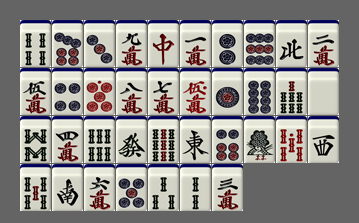0m: (180, 68, 211, 115)
0p: (84, 68, 115, 115)
0s: (276, 116, 307, 163)
1m: (180, 20, 211, 67)
1p: (212, 68, 243, 115)
1s: (244, 116, 275, 163)
1z: (180, 116, 211, 163)
2m: (308, 20, 339, 67)
2p: (212, 20, 243, 67)
2s: (180, 164, 211, 211)
2z: (52, 164, 83, 211)
3m: (212, 164, 243, 211)
3p: (84, 20, 115, 67)
3s: (148, 164, 179, 211)
3z: (308, 116, 339, 163)
4m: (52, 116, 83, 163)
4p: (52, 68, 83, 115)
4s: (20, 20, 51, 67)
4z: (276, 20, 307, 67)
5m: (20, 68, 51, 115)
5p: (116, 164, 147, 211)
5s: (20, 164, 51, 211)
5z: (308, 68, 339, 115)
6m: (84, 164, 115, 211)
6p: (212, 116, 243, 163)
6s: (84, 116, 115, 163)
6z: (116, 116, 147, 163)
7m: (148, 68, 179, 115)
7p: (52, 20, 83, 67)
7s: (276, 68, 307, 115)
7z: (148, 20, 179, 67)
8m: (116, 68, 147, 115)
8p: (244, 68, 275, 115)
8s: (20, 116, 51, 163)
9m: (116, 20, 147, 67)
9p: (244, 20, 275, 67)
9s: (148, 116, 179, 163)
